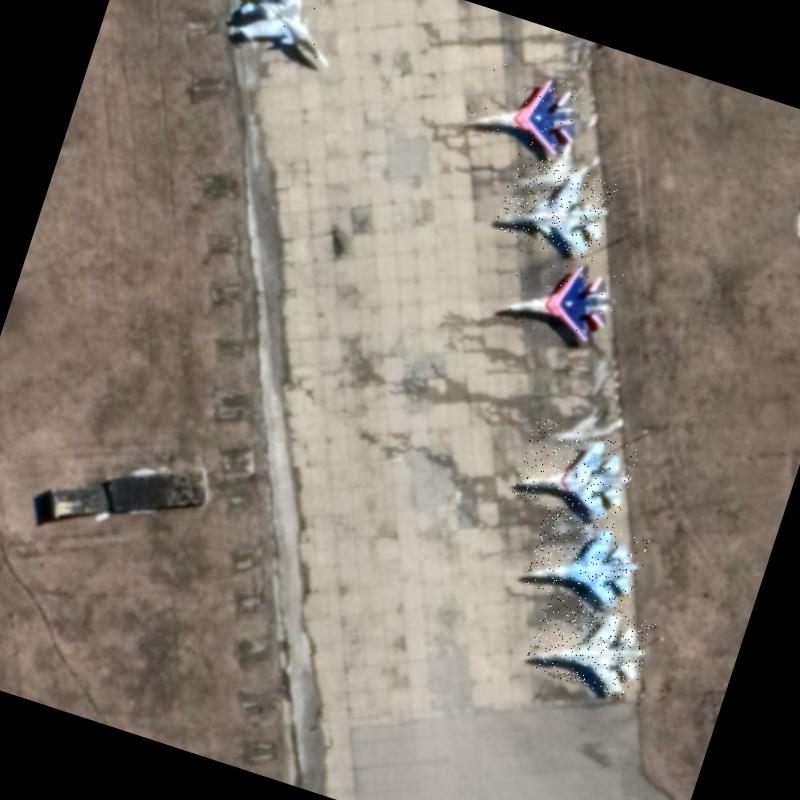A1: (523, 589, 656, 703), (510, 416, 640, 531), (496, 240, 626, 351), (521, 507, 651, 618), (466, 57, 593, 163)
A19: (493, 150, 620, 262), (227, 0, 355, 71)
